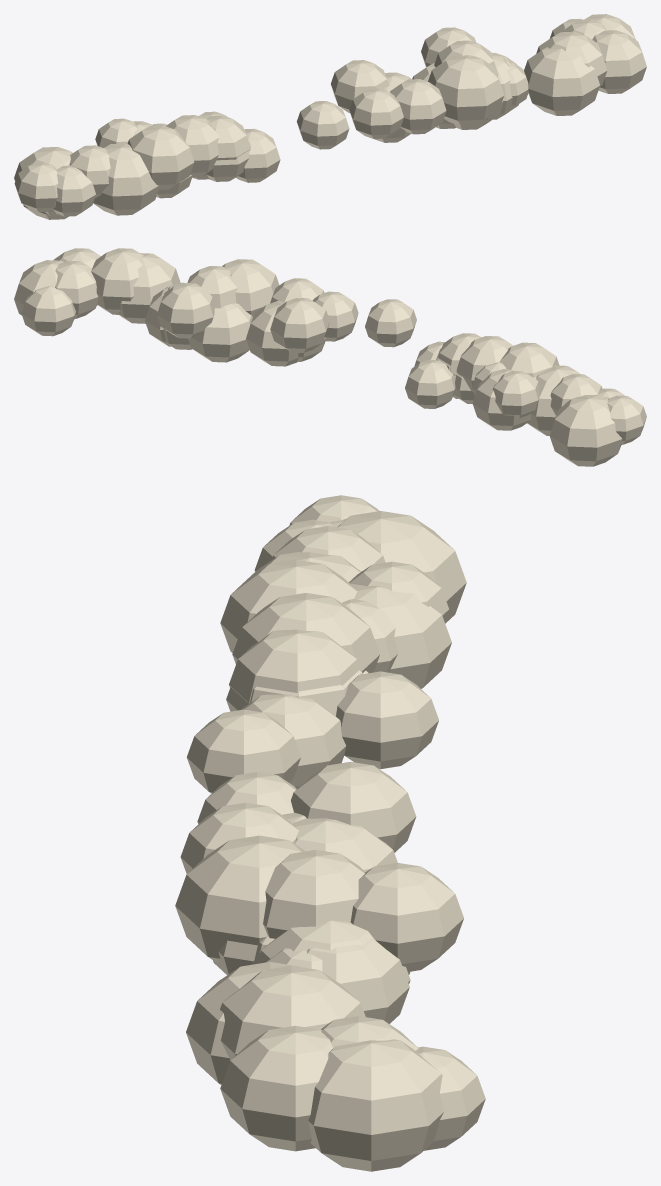
File: SkullPile.fbx
The picture shows the model from 3 angles, top to bottom: view 1: azimuth 30°, elevation 25°; view 2: azimuth 150°, elevation 25°; view 3: azimuth 270°, elevation 25°; orthographic projection. The views are drawn at different scales.
Visible parts, largest first — view 1: Skull0.001; view 2: Skull0.001; view 3: Skull0.001.
Boxes of the visible parts, x1=… form: Skull0.001: x1=14, y1=14, x2=646, y2=219; Skull0.001: x1=14, y1=248, x2=646, y2=466; Skull0.001: x1=175, y1=495, x2=485, y2=1171.
Size of the model in its own units: 2526 by 336 by 551.
